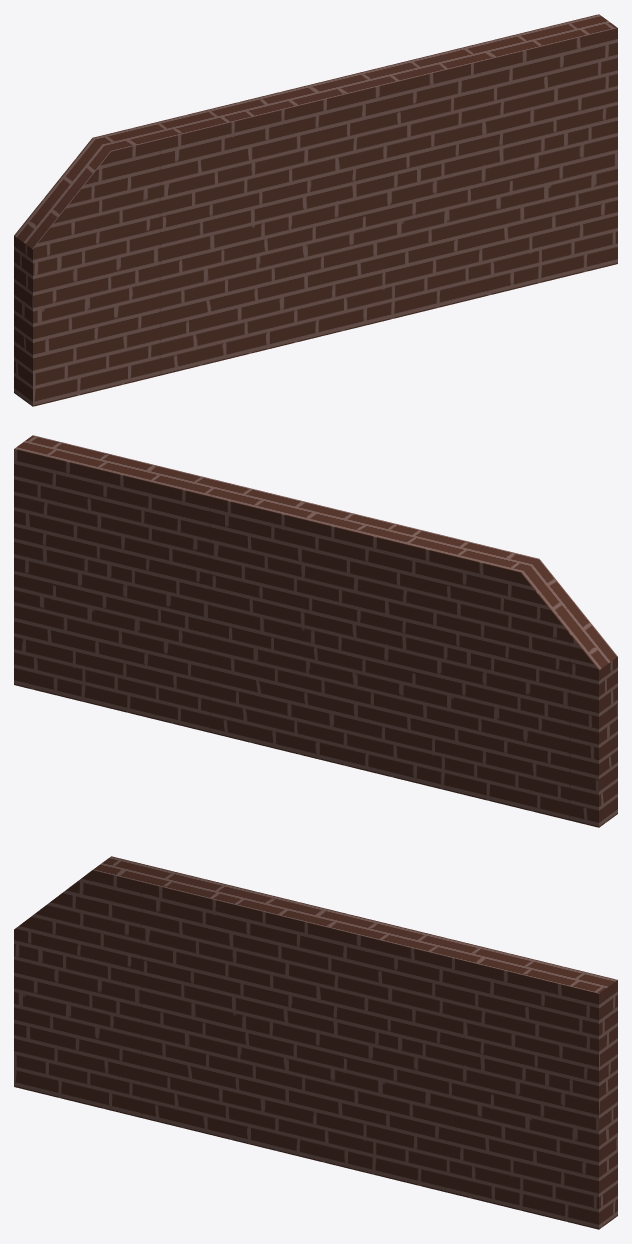
Rendered from wall10.FBX.
The picture shows the model from 3 angles, top to bottom: view 1: azimuth 30°, elevation 25°; view 2: azimuth 150°, elevation 25°; view 3: azimuth 330°, elevation 25°; orthographic projection.
Visible parts, largest first — view 1: wall10; view 2: wall10; view 3: wall10.
Part boxes in pixels (left/top/right/bottom): wall10: left=14, top=14, right=617, bottom=406; wall10: left=14, top=435, right=617, bottom=827; wall10: left=14, top=856, right=617, bottom=1229.
Bounding box in the file's own units: 895 × 345 × 50.
Materials: 1 (1 with a texture image).
